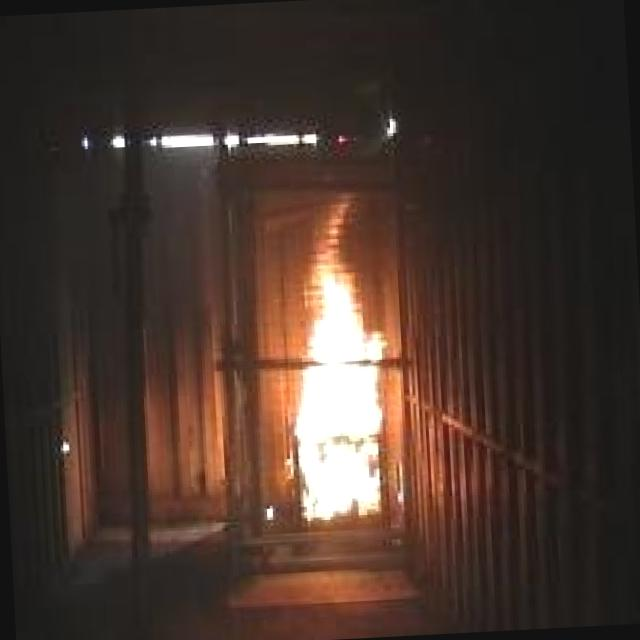fire: (268, 228, 401, 531)
